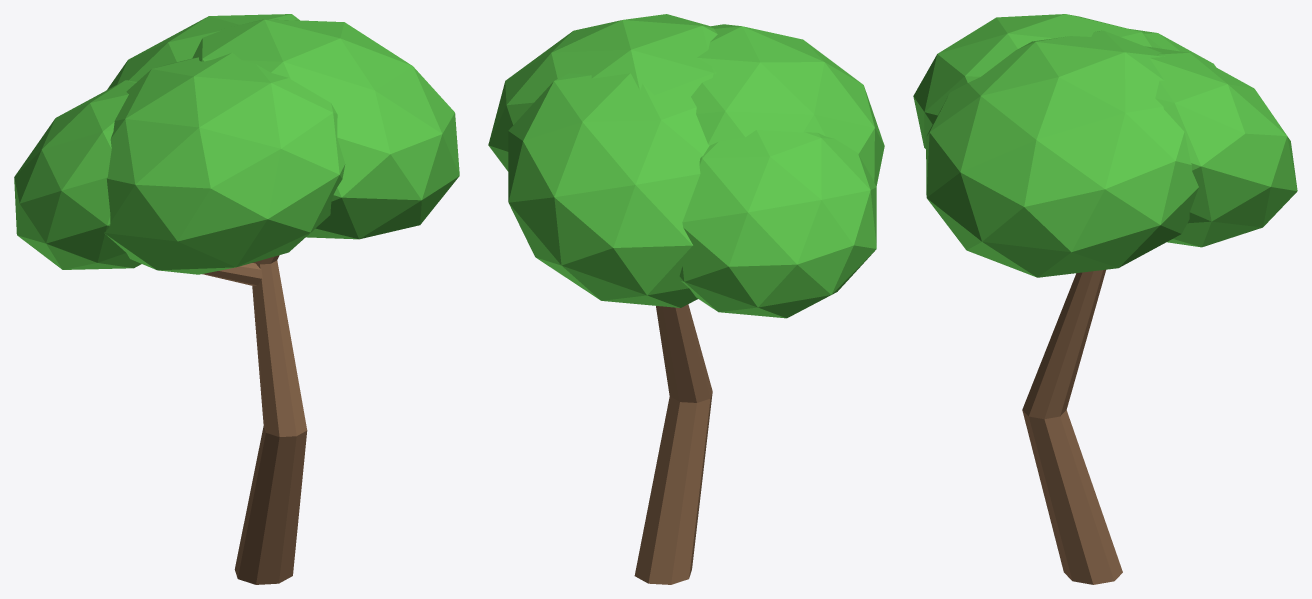
The model's file is arvore_redonda.glb.
The picture shows the model from 3 angles, left to right: view 1: azimuth 30°, elevation 25°; view 2: azimuth 150°, elevation 25°; view 3: azimuth 270°, elevation 25°; orthographic projection.
Visible parts, largest first — view 1: Arvore-1; view 2: Arvore-1; view 3: Arvore-1.
Boxes of the visible parts, <box> form: Arvore-1: <box>14,14,459,584</box>; Arvore-1: <box>488,14,884,584</box>; Arvore-1: <box>913,14,1297,584</box>.
Size of the model in its own units: 3.34 by 4.45 by 2.94.
